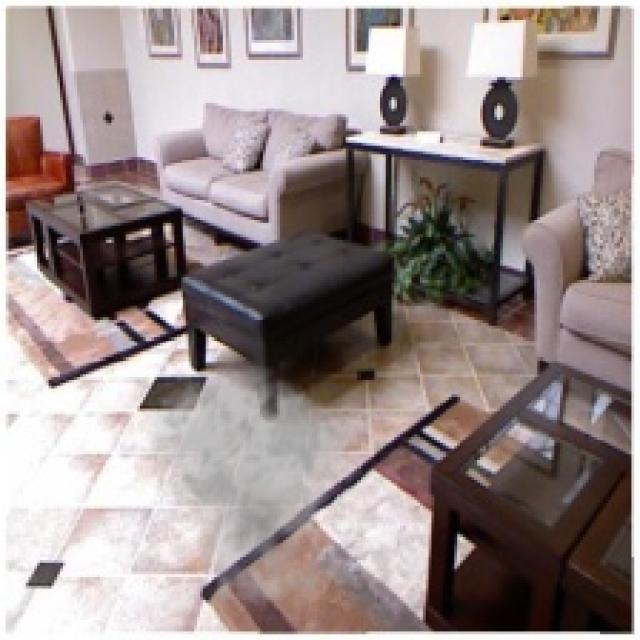smoke: (140, 363, 369, 623)
